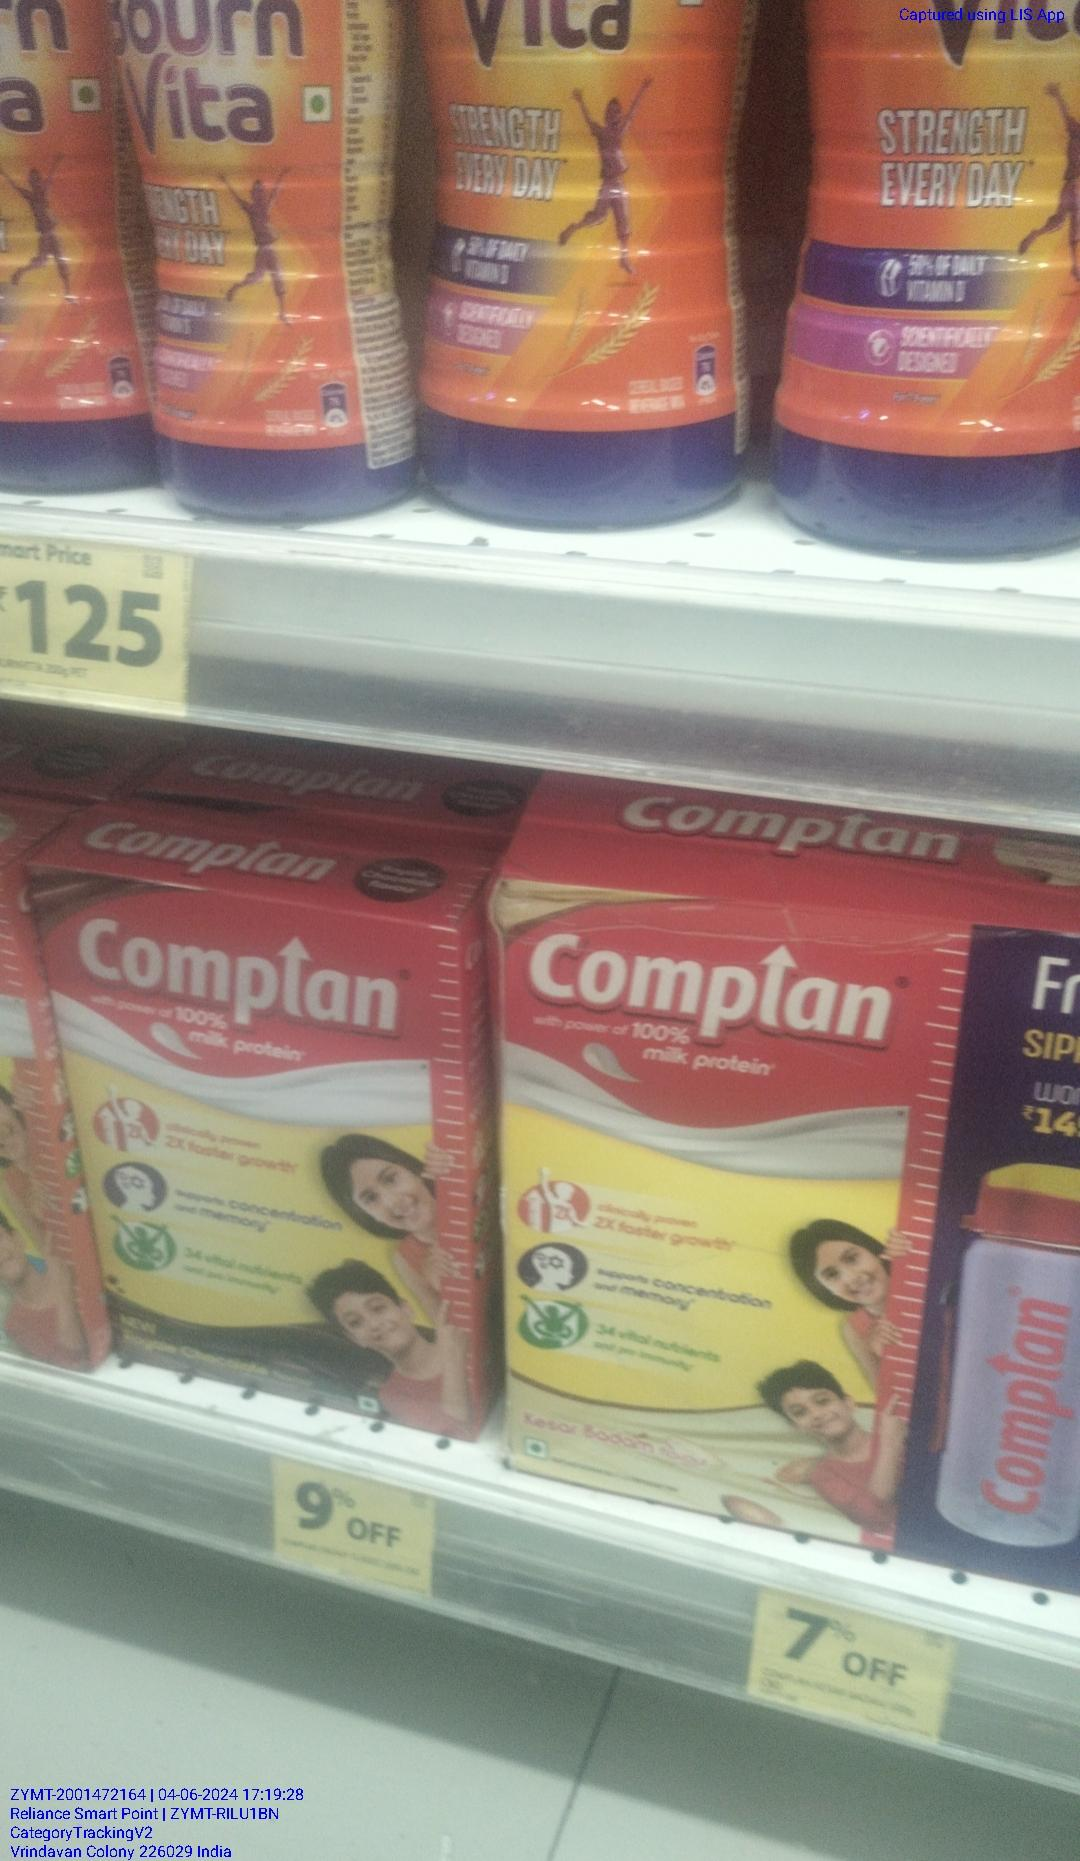COMPLAN_CHOCOLATE_500_GMS_PACK: (57, 873, 467, 1406)
COMPLAN_KESAR_BADAM_500_GMS_PACK: (492, 887, 1080, 1558)
